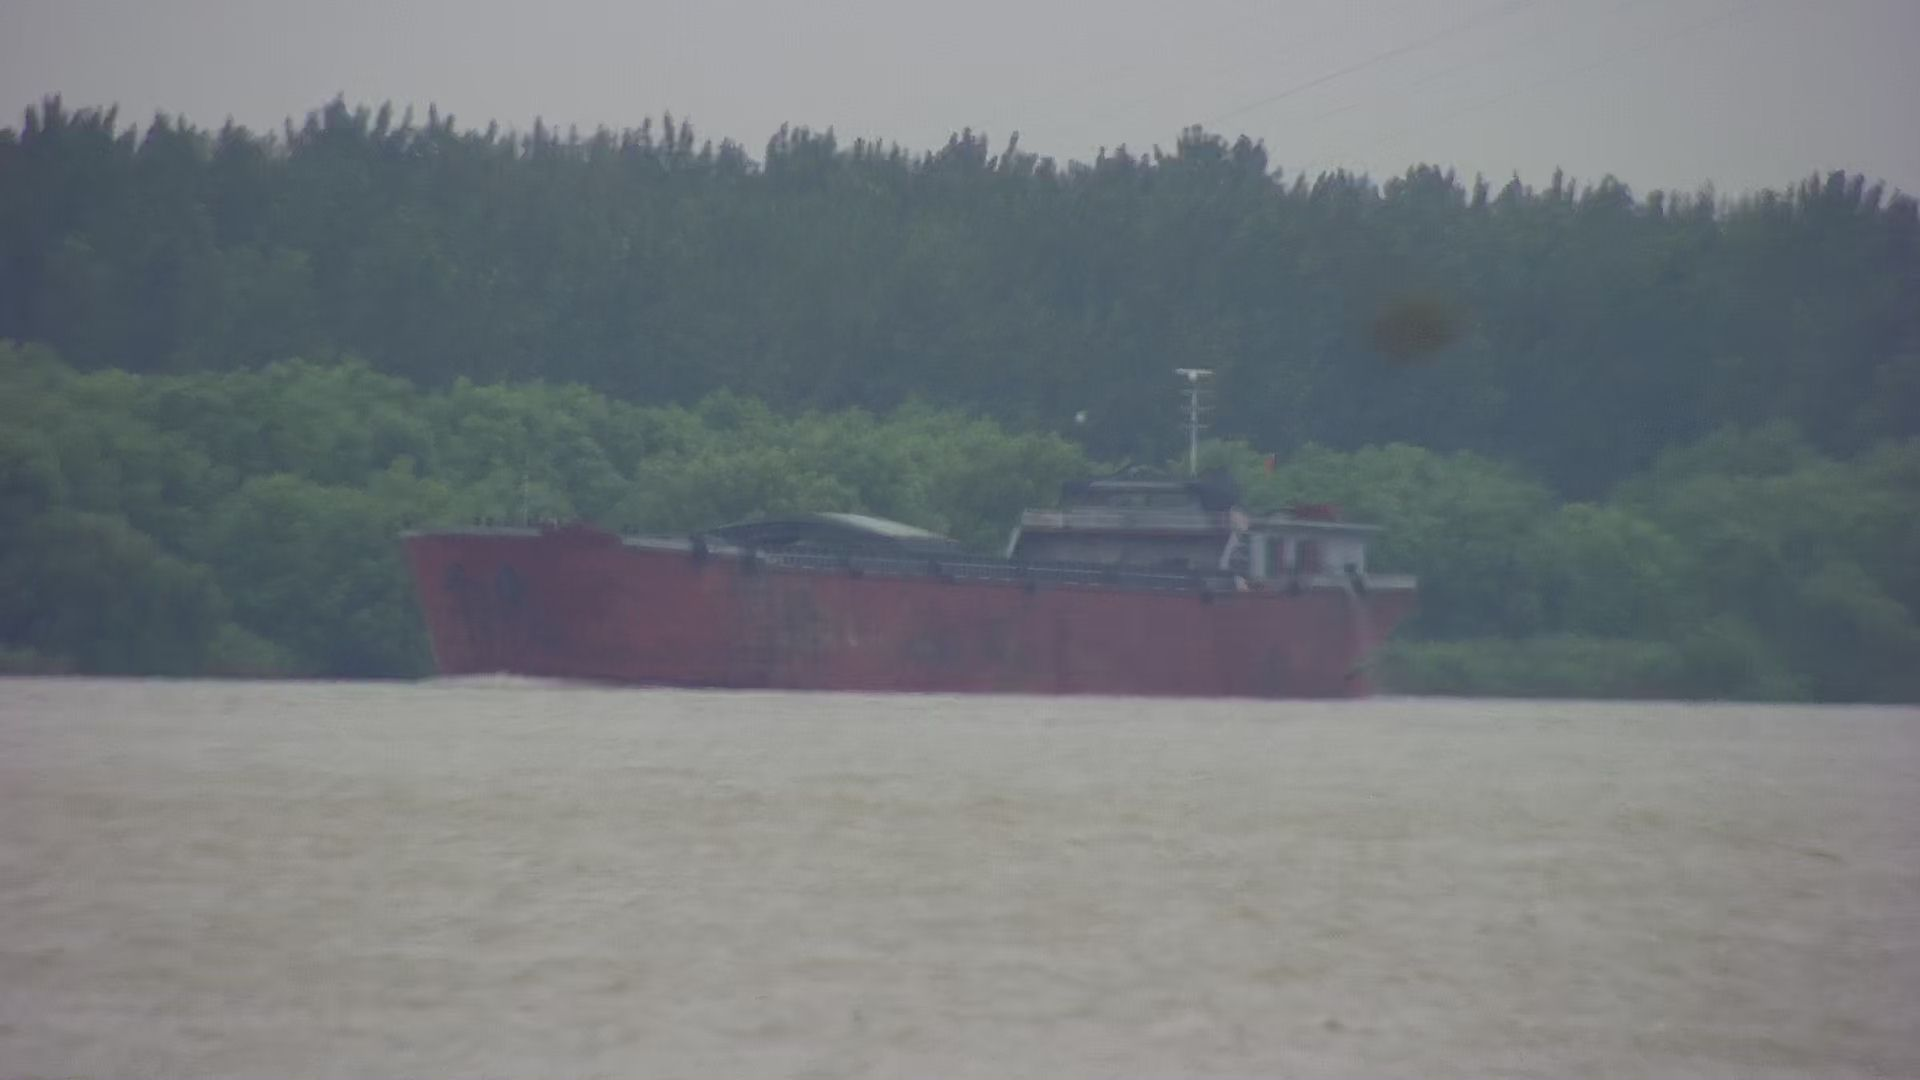ship: (377, 361, 1433, 704)
